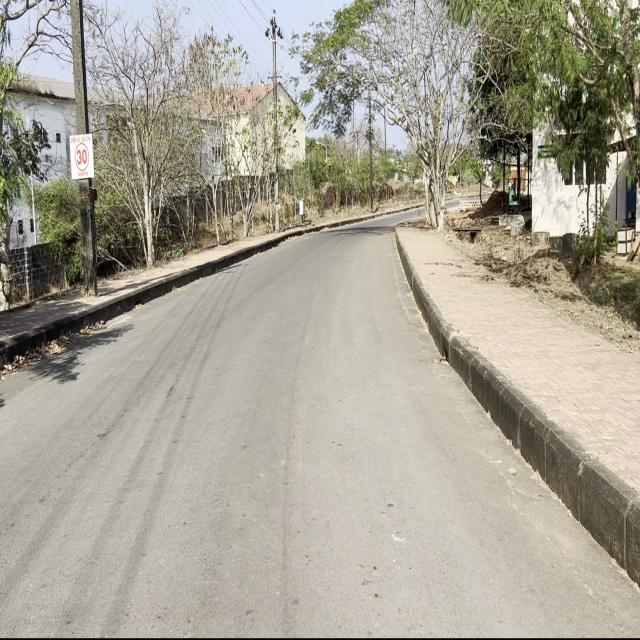Road: (0, 225, 639, 633)
